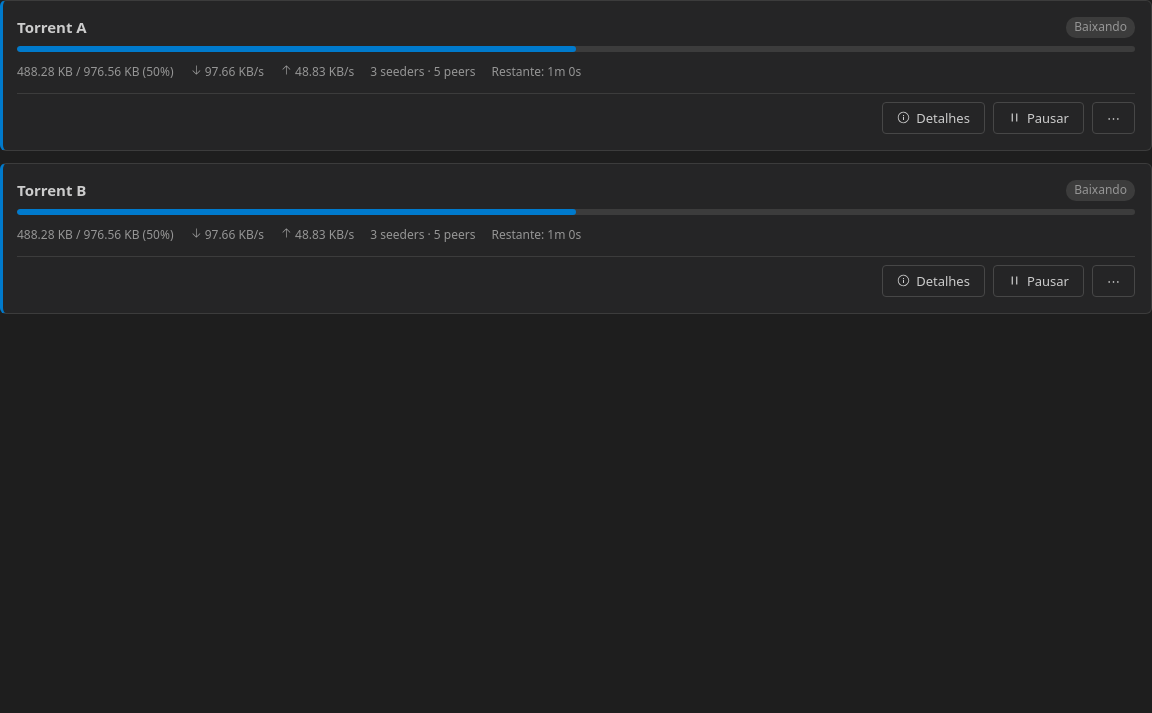
DownloadItem + DetailsPanel — integração › Estado independente entre itens (Req 1.3) › ambos os itens podem ser expandidos simultaneamente
The width and height of the screenshot is (1152, 713).
Note: Expandir ambos
Click the 1st button "Detalhes" at {"x": 934, "y": 118}, box [882,102,985,134]
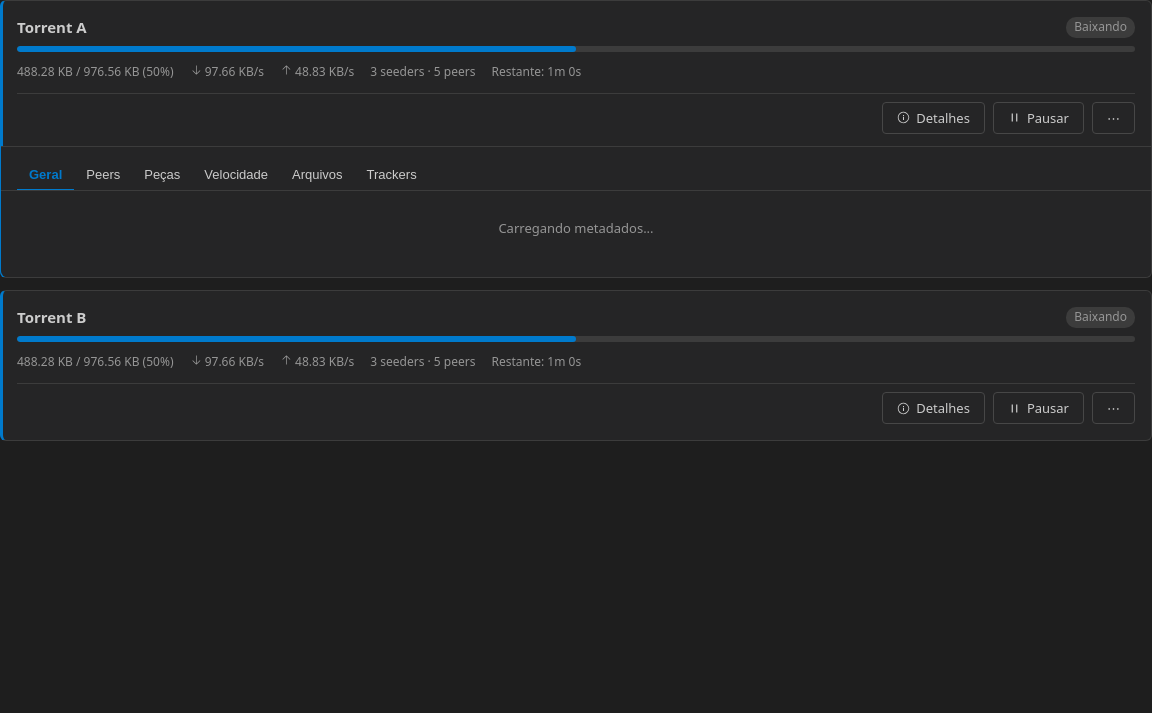
Click the 2nd button "Detalhes" at {"x": 934, "y": 408}, box [882,392,985,424]
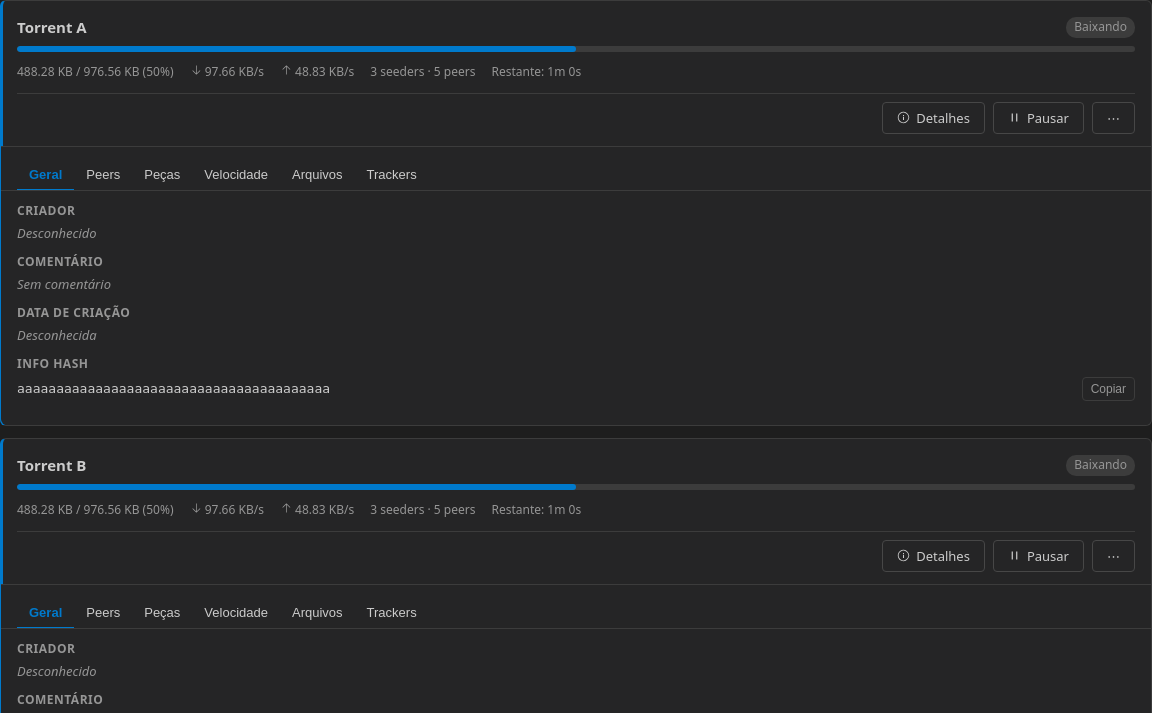
Now the 2nd button "Detalhes" is expanded, box [882,540,985,572]
